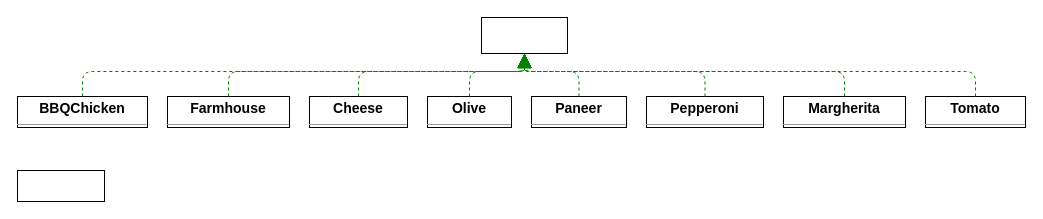
Some shapes in this 1043 by 219 pixel diagram are drawn without their labels. Here are the shapes that lost their labels. From the top down, the centre of each, then its label:
At point 524,35: "<<interface>> IPizza".
At point 60,186: "Client".
